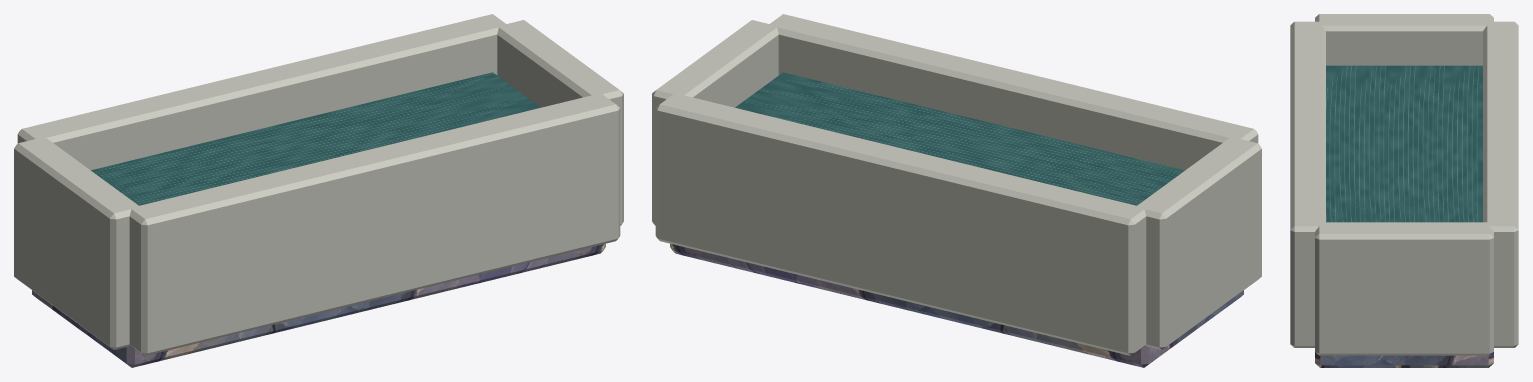
The model's file is Water_Trough.fbx.
3 renders of one model, left to right at view 1: azimuth 30°, elevation 25°; view 2: azimuth 150°, elevation 25°; view 3: azimuth 270°, elevation 25°, orthographic. The views are drawn at different scales.
Visible parts, largest first — view 1: Trough rim, Trough rim.001, Water, Trough end, Trough end.001, Trough bottom; view 2: Trough rim.001, Trough rim, Water, Trough end, Trough end.001, Trough bottom; view 3: Water, Trough end.001, Trough rim.001, Trough rim, Trough end, Trough bottom.
Boxes of the visible parts, box(x1,y1,x2,y2) form: Trough rim: box(129, 94, 620, 355); Trough rim.001: box(17, 14, 507, 170); Water: box(91, 72, 540, 205); Trough end: box(14, 137, 138, 349); Trough end.001: box(497, 20, 623, 225); Trough bottom: box(32, 243, 605, 367); Trough rim.001: box(655, 94, 1146, 355); Trough rim: box(769, 14, 1258, 170); Water: box(735, 72, 1184, 205); Trough end: box(1136, 137, 1261, 349); Trough end.001: box(652, 20, 778, 225); Trough bottom: box(670, 243, 1243, 367); Water: box(1326, 65, 1482, 222); Trough end.001: box(1315, 222, 1493, 355); Trough rim.001: box(1483, 21, 1518, 347); Trough rim: box(1290, 21, 1325, 347); Trough end: box(1315, 14, 1493, 65); Trough bottom: box(1315, 352, 1493, 367).
Bounding box in the file's own units: 236 × 70 × 102.
